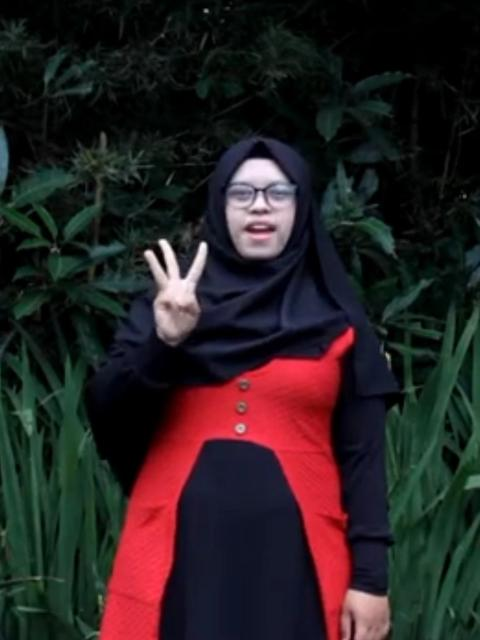W: (142, 236, 212, 338)
